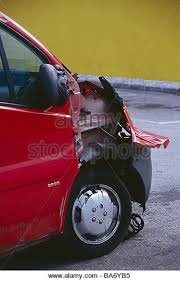Dent: (2, 213, 50, 245)
Smashed: (58, 67, 169, 185)
